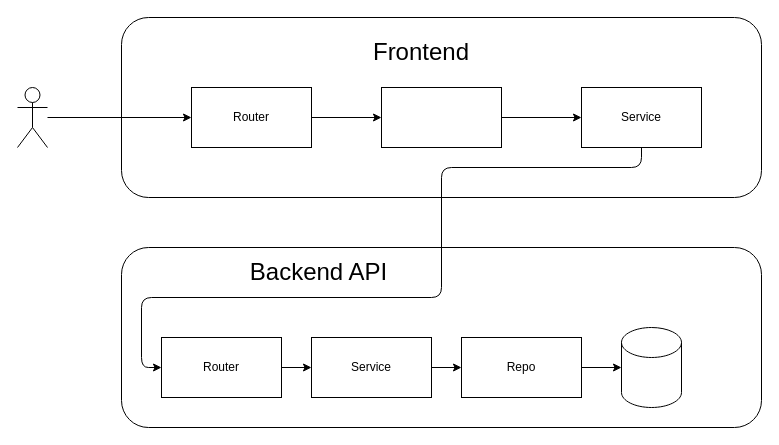
This 779x445 diagram has some shape labels left out. The shapes that lost their labels are listed below. From the top down, each one's centre as x and y in pixels, then its label:
the point at 32,117: Actor
the point at 441,117: Component
the point at 651,367: MySQL
